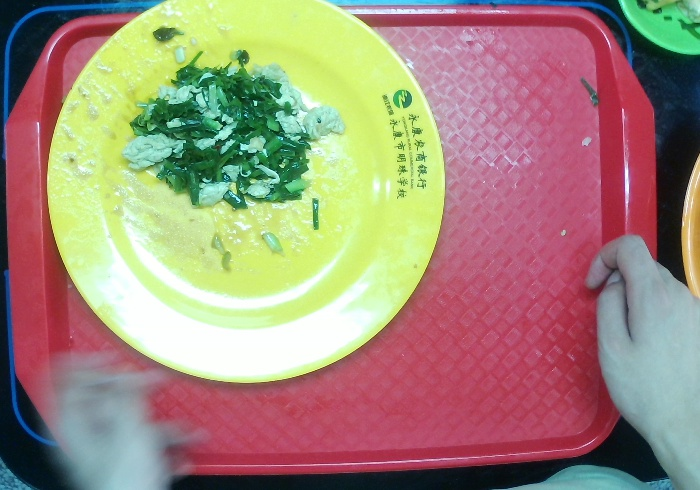YKMZ-Huang_Se_Mian_Pan: (46, 1, 447, 386)
